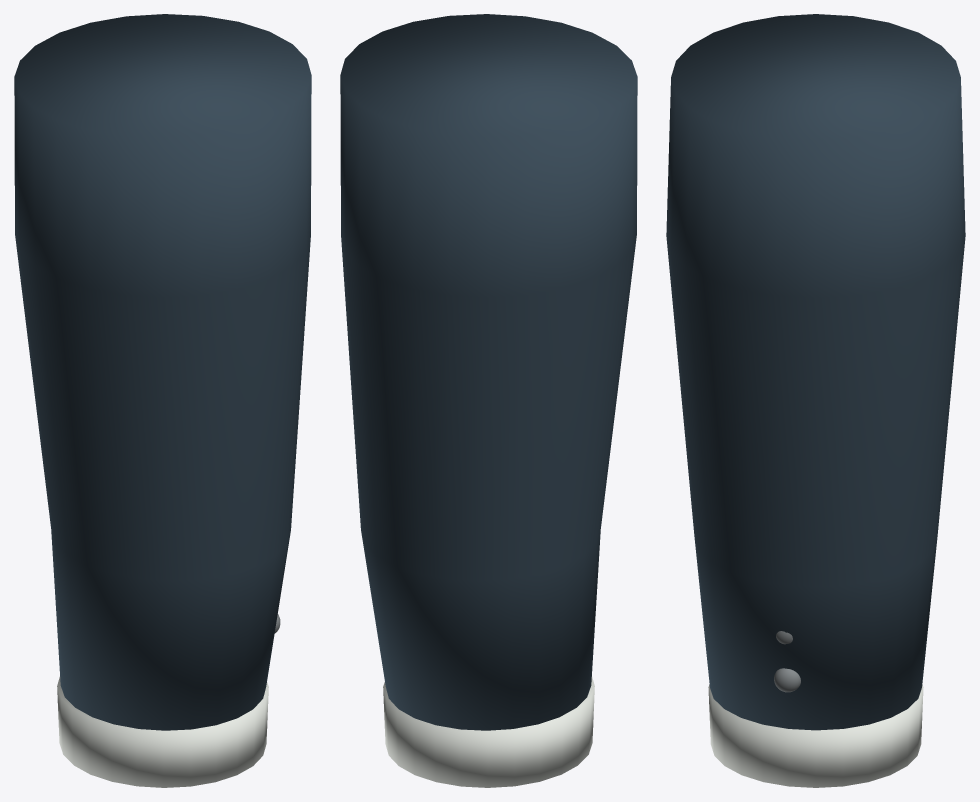
Rendered from SM_Teacher_Forearm.glb.
3 views of the same model, side by side, from view 1: azimuth 30°, elevation 25°; view 2: azimuth 150°, elevation 25°; view 3: azimuth 270°, elevation 25° (orthographic).
Visible parts, largest first — view 1: SM_Teacher_Forearm; view 2: SM_Teacher_Forearm; view 3: SM_Teacher_Forearm.
Part boxes in pixels (<box>): SM_Teacher_Forearm: <box>14,14,311,787</box>; SM_Teacher_Forearm: <box>340,14,637,787</box>; SM_Teacher_Forearm: <box>666,14,965,787</box>.
Size of the model in its own units: 0.128 by 0.315 by 0.128.
